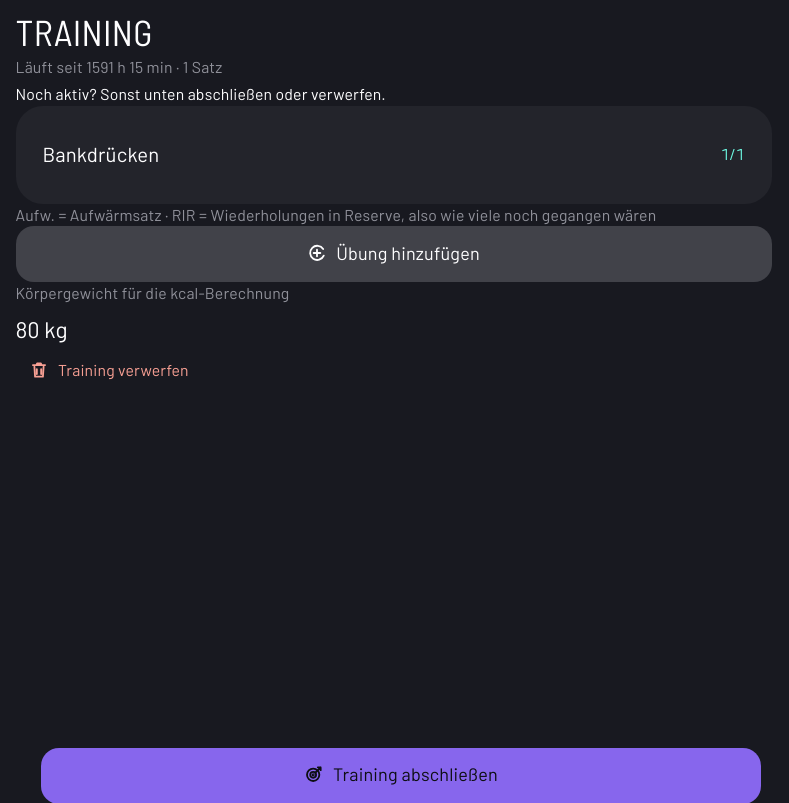
it: WorkoutSessionPage › says all sets are logged instead of counting past the target
Click the button "Bankdrücken": click(101, 154) [42,133,712,177]
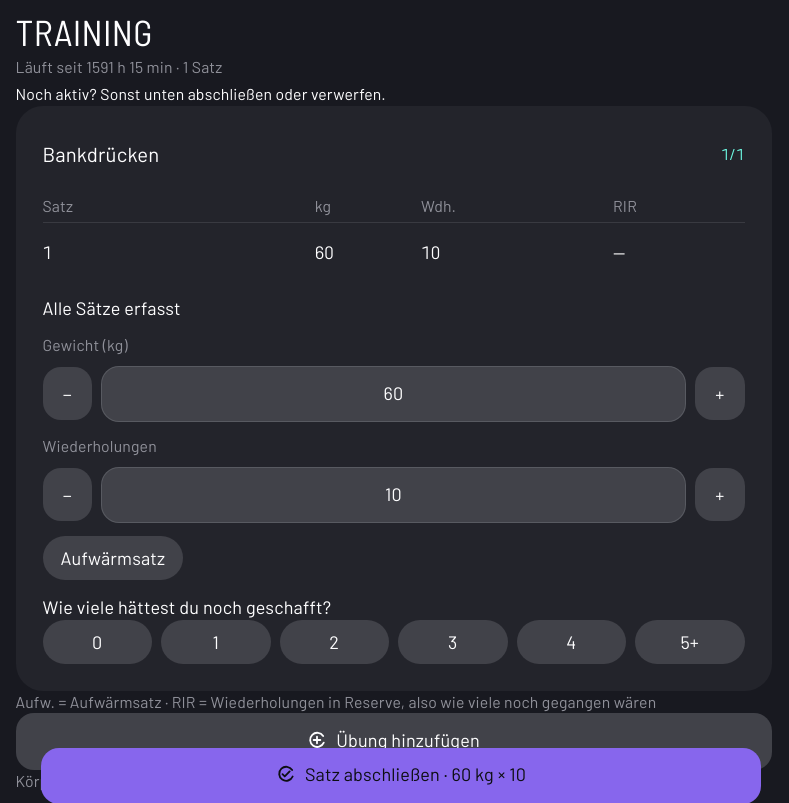
Expected: the text "Alle Sätze erfasst" is shown, [42,297,181,319]
